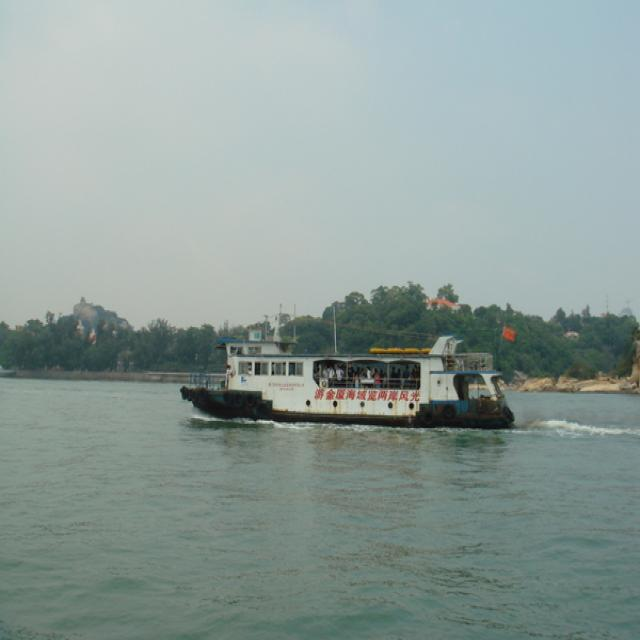houseboat: (182, 302, 531, 422)
